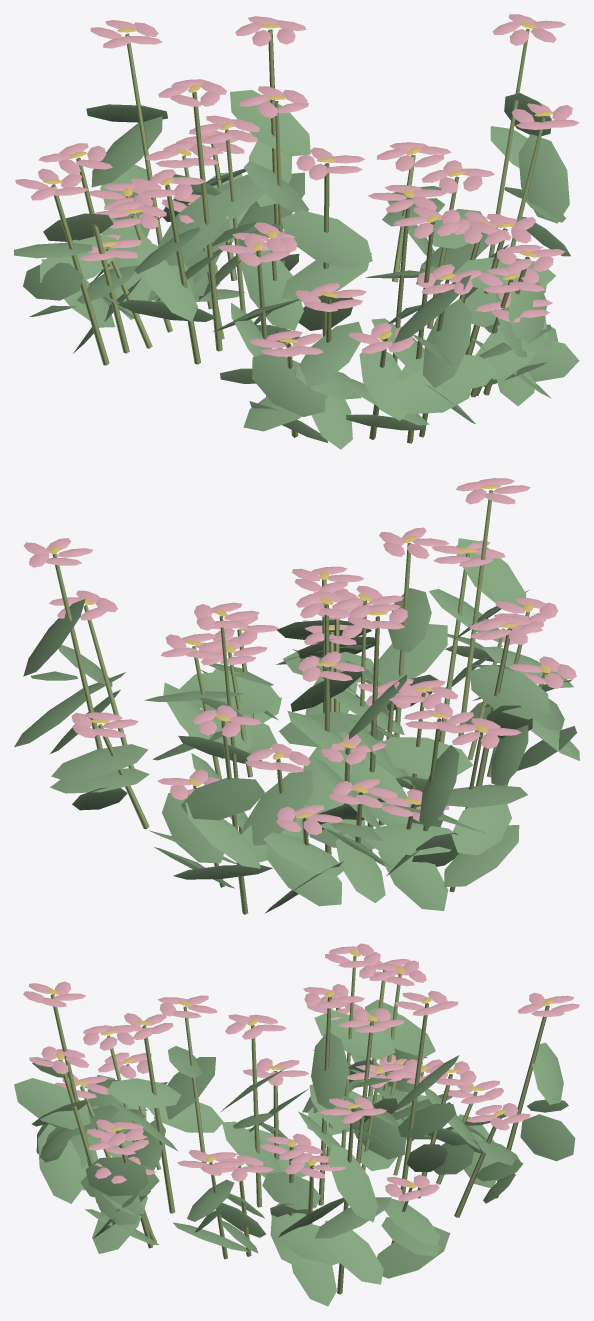
File: study_bank_patch_1.glb
3 views of the same model, one above another, from view 1: azimuth 30°, elevation 25°; view 2: azimuth 150°, elevation 25°; view 3: azimuth 270°, elevation 25° (orthographic). The views are drawn at different scales.
Visible parts, largest first — view 1: study_bank_patch_1_StudyLeafJade, study_bank_patch_1_StudyRose, study_bank_patch_1_LakeReed, study_bank_patch_1_LakePollen; view 2: study_bank_patch_1_StudyLeafJade, study_bank_patch_1_StudyRose, study_bank_patch_1_LakeReed, study_bank_patch_1_LakePollen; view 3: study_bank_patch_1_StudyLeafJade, study_bank_patch_1_StudyRose, study_bank_patch_1_LakeReed, study_bank_patch_1_LakePollen.
Part boxes in pixels (bbox=[...]): study_bank_patch_1_StudyLeafJade: bbox=[14, 90, 579, 449]; study_bank_patch_1_StudyRose: bbox=[15, 14, 579, 356]; study_bank_patch_1_LakeReed: bbox=[51, 28, 545, 443]; study_bank_patch_1_LakePollen: bbox=[42, 22, 553, 342]; study_bank_patch_1_StudyLeafJade: bbox=[14, 538, 579, 913]; study_bank_patch_1_StudyRose: bbox=[23, 478, 576, 835]; study_bank_patch_1_LakeReed: bbox=[52, 490, 547, 914]; study_bank_patch_1_LakePollen: bbox=[49, 484, 550, 818]; study_bank_patch_1_StudyLeafJade: bbox=[14, 999, 575, 1306]; study_bank_patch_1_StudyRose: bbox=[23, 943, 579, 1201]; study_bank_patch_1_LakeReed: bbox=[50, 956, 549, 1294]; study_bank_patch_1_LakePollen: bbox=[46, 950, 553, 1188].
Bounding box in the file's own units: 1.31 × 0.6233 × 1.41.
